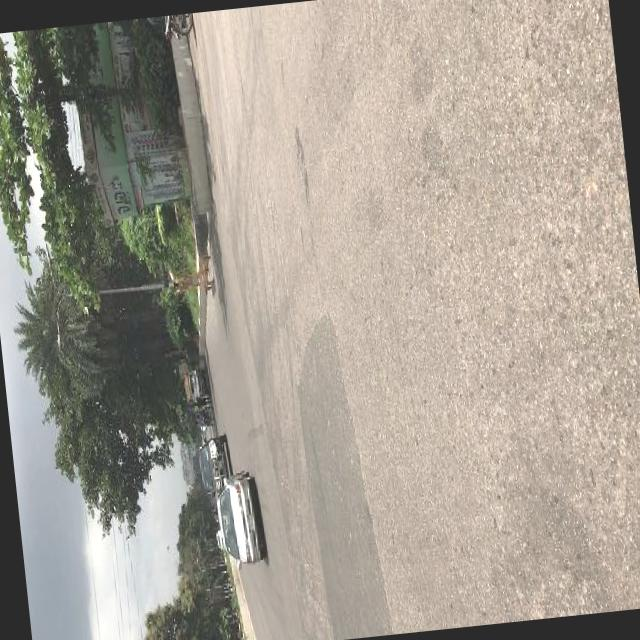bus: (181, 360, 210, 398)
car: (212, 468, 262, 564), (194, 428, 231, 489), (214, 523, 222, 546)
motorcycle: (192, 400, 214, 424)
